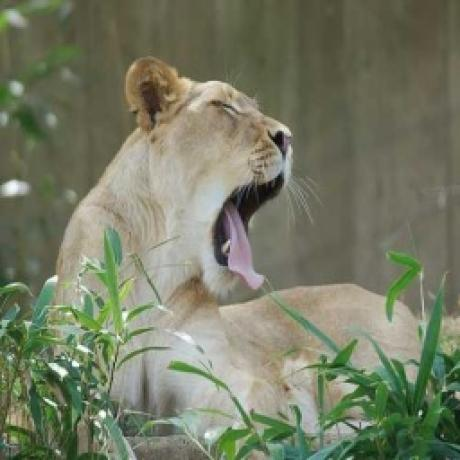Lion: (44, 49, 428, 401)
